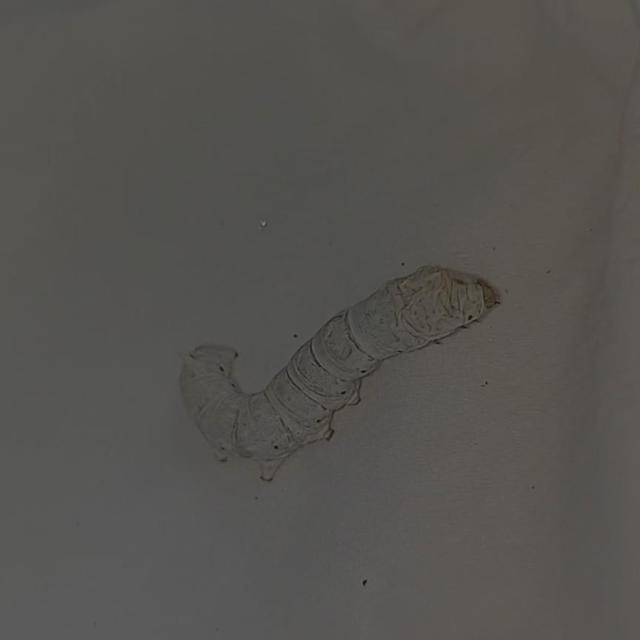Healthy: (169, 253, 511, 488)
